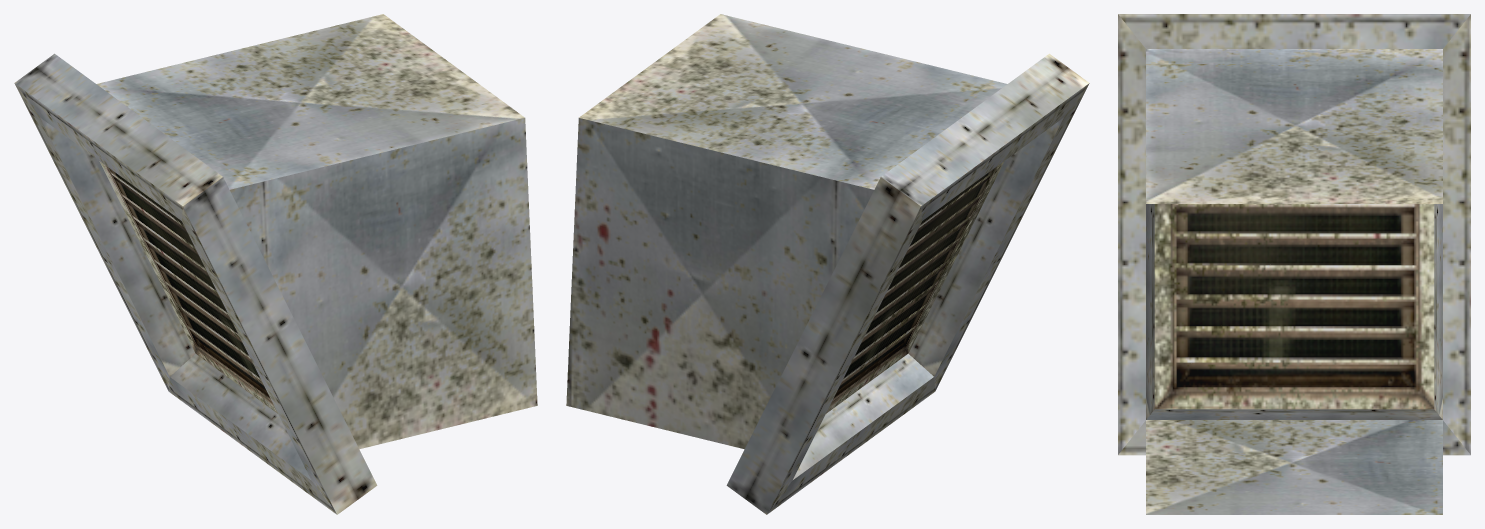
Rendered from vent_05.fbx.
3 views of the same model, side by side, from view 1: azimuth 30°, elevation 25°; view 2: azimuth 150°, elevation 25°; view 3: azimuth 270°, elevation 25° (orthographic). The views are drawn at different scales.
Parts seen in each view (by area): view 1: vent_05; view 2: vent_05; view 3: vent_05.
Boxes of the visible parts, box(x1,y1,x2,y2) form: vent_05: box(14, 14, 537, 514); vent_05: box(566, 14, 1089, 514); vent_05: box(1118, 14, 1470, 514).
Bounding box in the file's own units: 0.9964 × 0.9464 × 0.7905.
